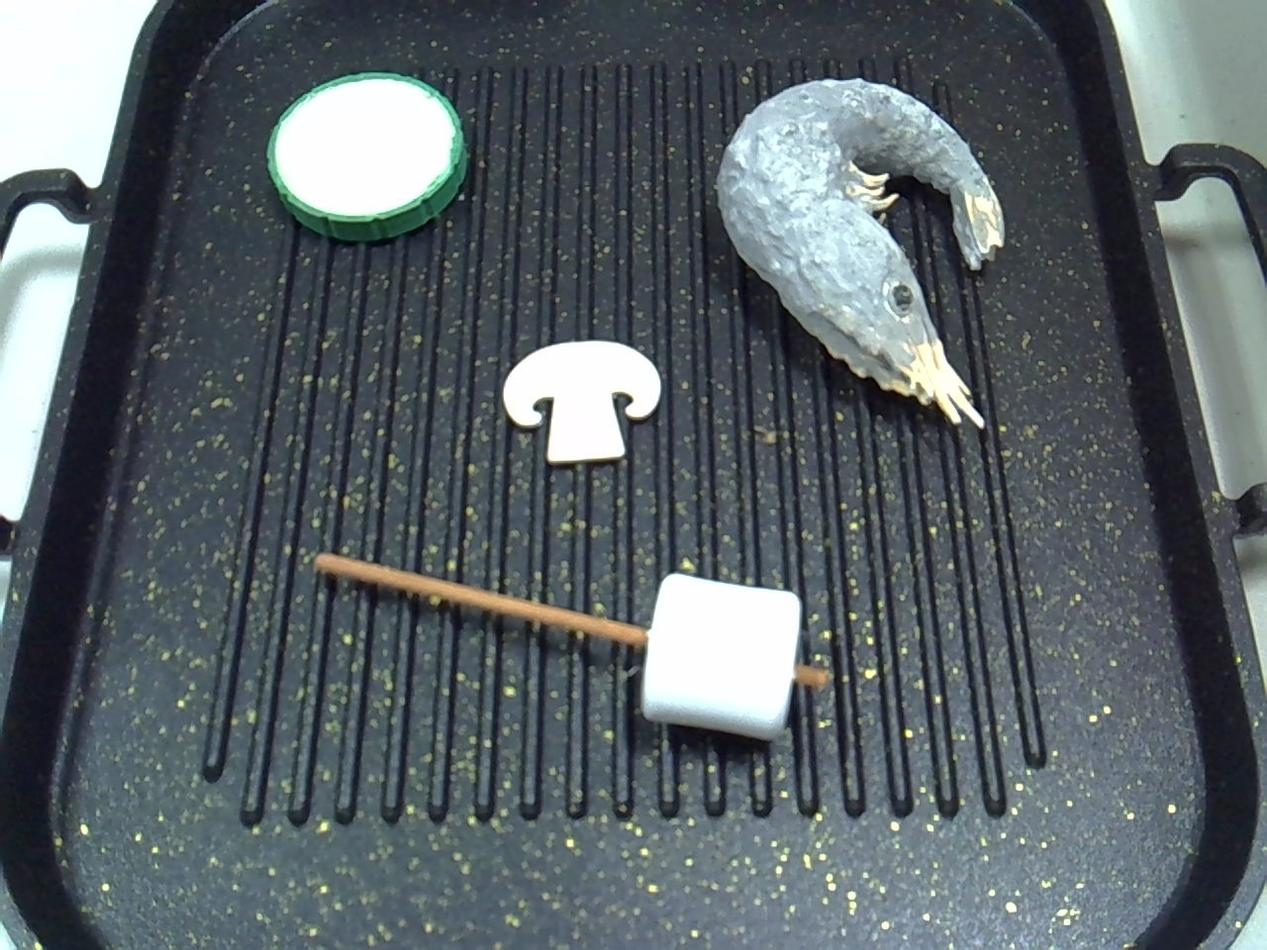marshmallow_raw: (290, 518, 848, 766)
mushroom_raw: (482, 317, 678, 484)
shrimp_raw: (711, 65, 1018, 446)
zucchini_raw: (260, 66, 476, 249)
